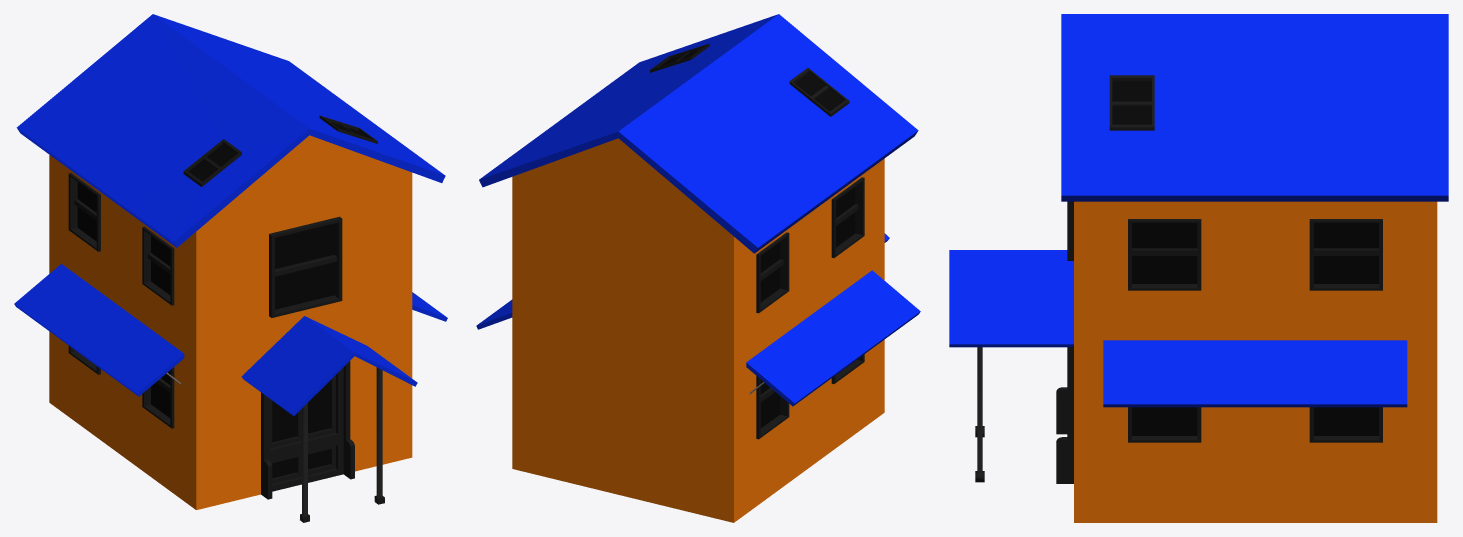
Rendered from House_4.fbx.
The picture shows the model from 3 angles, left to right: view 1: azimuth 30°, elevation 25°; view 2: azimuth 150°, elevation 25°; view 3: azimuth 270°, elevation 25°; orthographic projection. The views are drawn at different scales.
Parts seen in each view (by area): view 1: House_4; view 2: House_4; view 3: House_4.
Boxes of the visible parts, x1,y1,x2,y2 form: House_4: (14,14,447,522); House_4: (476,14,920,522); House_4: (949,14,1448,522).
Size of the model in its own units: 4.73 by 5.21 by 5.31.
